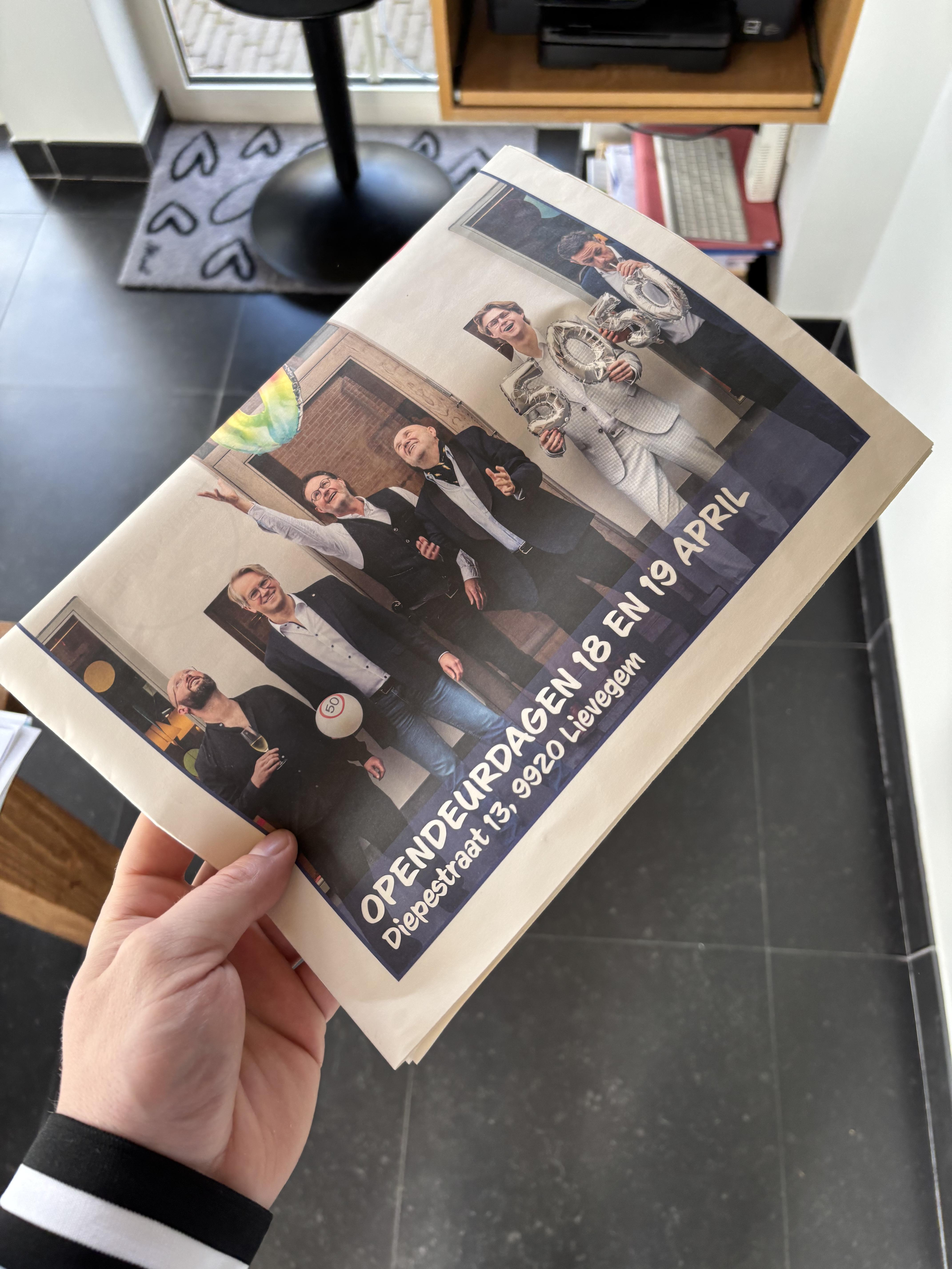Paper: (4, 145, 927, 1062)
